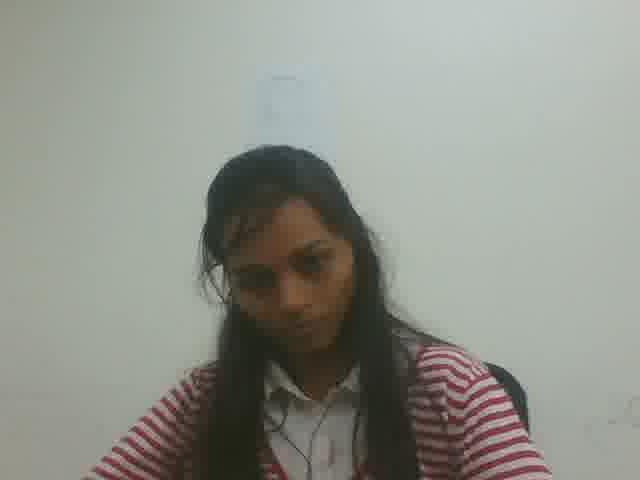bingung: (226, 215, 348, 359)
